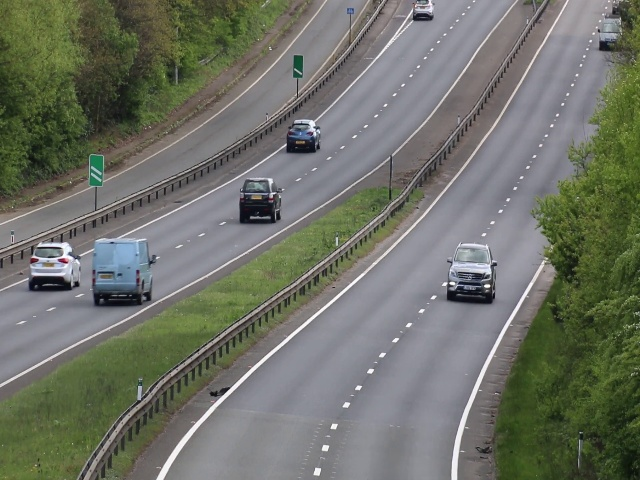car: (90, 237, 155, 305), (447, 242, 497, 305), (31, 241, 81, 290), (238, 177, 283, 224), (286, 117, 322, 155), (598, 17, 622, 52), (411, 1, 436, 20)
